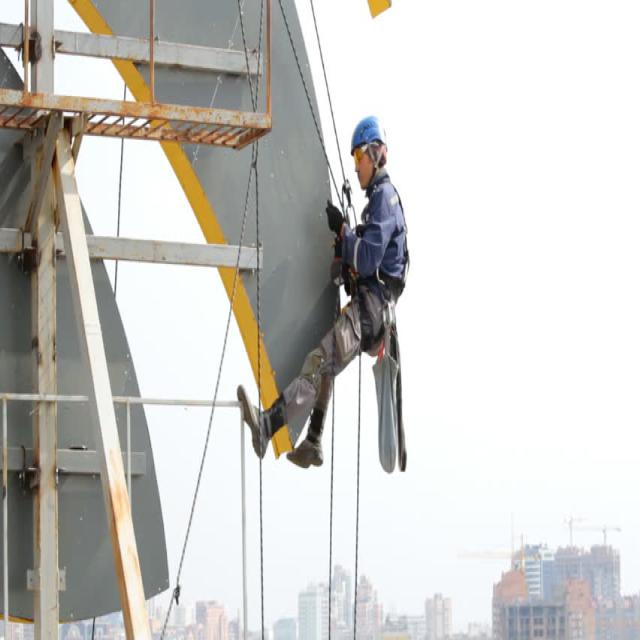shoes: (238, 386, 272, 460), (284, 432, 324, 467)
